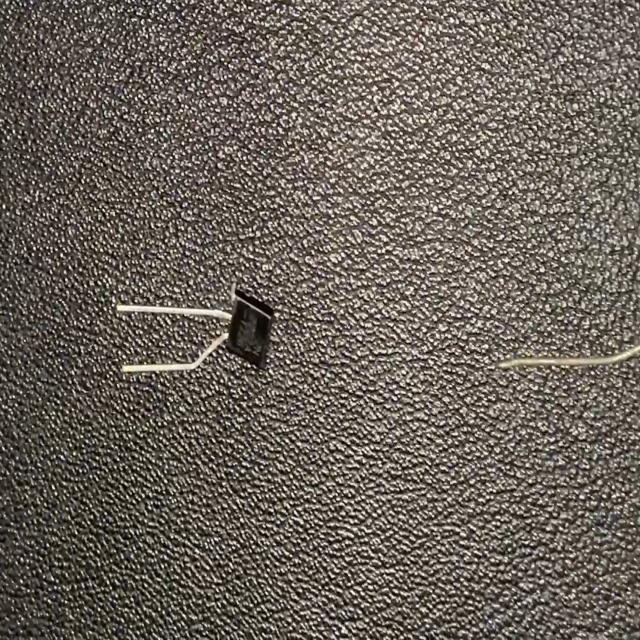missing-leg: (116, 282, 276, 379)
